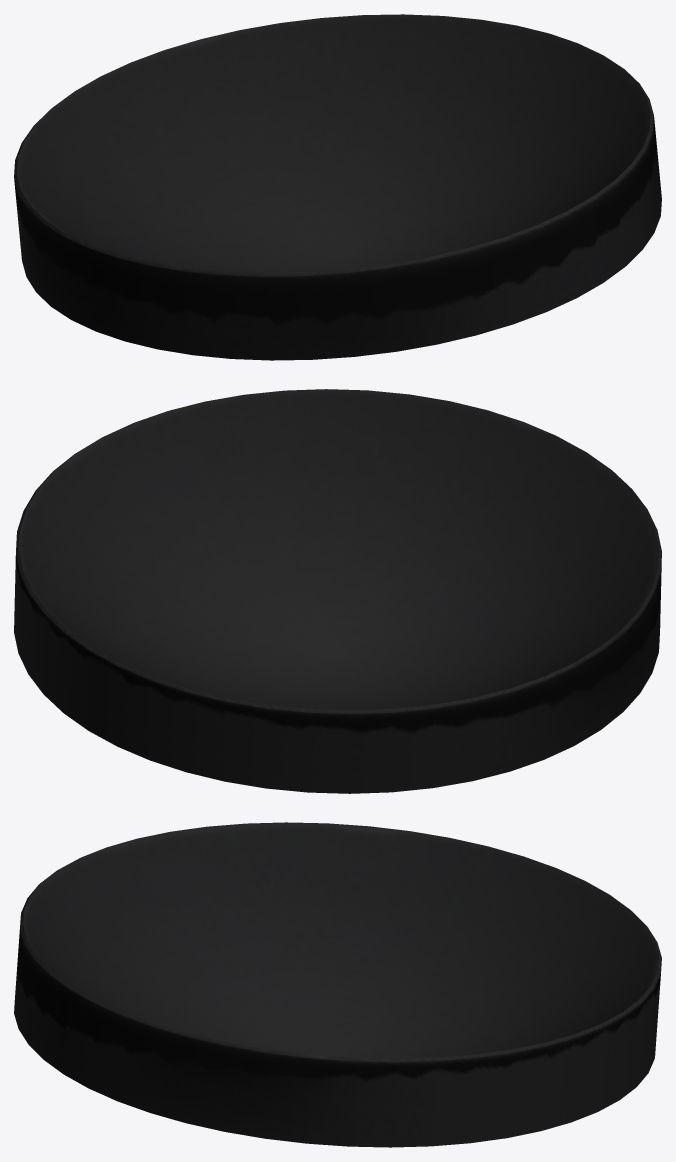
File: trackpad_left.obj
3 renders of one model, top to bottom at view 1: azimuth 30°, elevation 25°; view 2: azimuth 150°, elevation 25°; view 3: azimuth 270°, elevation 25°, orthographic.
Visible parts, largest first — view 1: touchpad; view 2: touchpad; view 3: touchpad.
Boxes of the visible parts, x1,y1,x2,y2 form: touchpad: [14, 14, 661, 360]; touchpad: [14, 389, 661, 793]; touchpad: [14, 822, 661, 1147].
Bounding box in the file's own units: 0.0376 × 0.00883 × 0.0376.
1 material, 1 textured.
